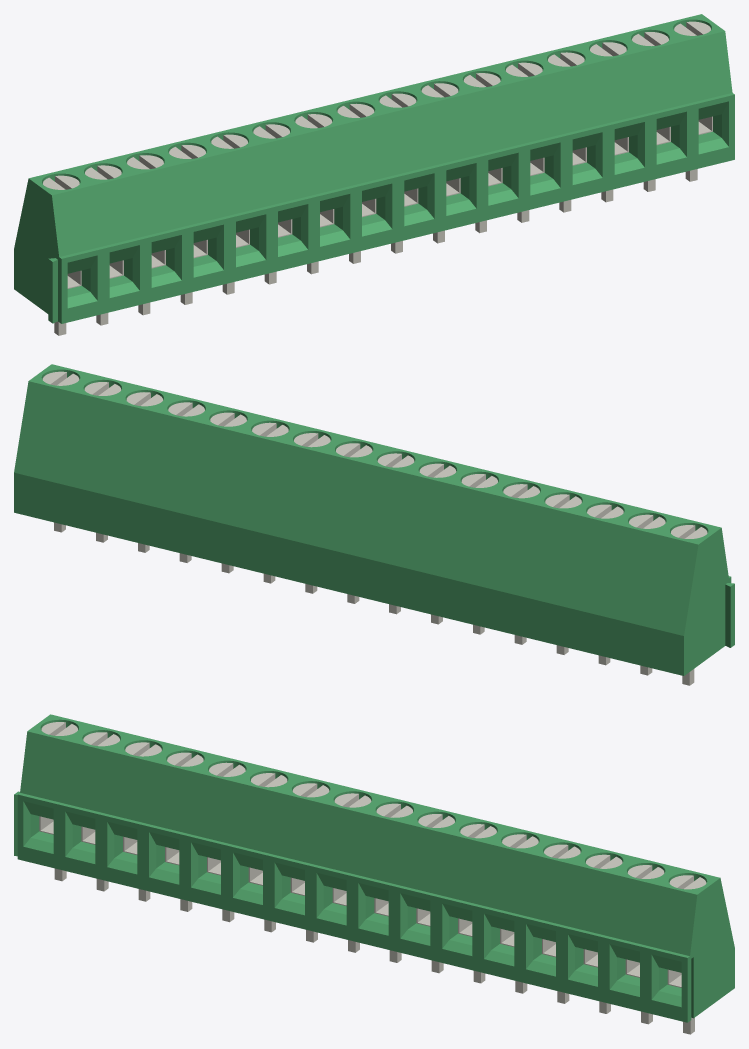
File: kc-terminalblock_phoenix_mkds-1_5-16_1x16_p5.00mm_horizontal.glb
3 views of the same model, one above another, from view 1: azimuth 30°, elevation 25°; view 2: azimuth 150°, elevation 25°; view 3: azimuth 330°, elevation 25° (orthographic).
Parts seen in each view (by area): view 1: 0.08333333333333333_0.4166666666666667_0.16666666666666666_0, 0.6666666666666666_0.6666666666666666_0.5833333333333334_0.8; view 2: 0.08333333333333333_0.4166666666666667_0.16666666666666666_0, 0.6666666666666666_0.6666666666666666_0.5833333333333334_0.8; view 3: 0.08333333333333333_0.4166666666666667_0.16666666666666666_0, 0.6666666666666666_0.6666666666666666_0.5833333333333334_0.8.
Boxes of the visible parts, x1,y1,x2,y2 form: 0.08333333333333333_0.4166666666666667_0.16666666666666666_0: [14, 14, 734, 323]; 0.6666666666666666_0.6666666666666666_0.5833333333333334_0.8: [43, 21, 712, 335]; 0.08333333333333333_0.4166666666666667_0.16666666666666666_0: [14, 364, 734, 675]; 0.6666666666666666_0.6666666666666666_0.5833333333333334_0.8: [42, 371, 707, 685]; 0.08333333333333333_0.4166666666666667_0.16666666666666666_0: [14, 714, 734, 1022]; 0.6666666666666666_0.6666666666666666_0.5833333333333334_0.8: [39, 722, 706, 1034].
Size of the model in its own units: 8.07 by 1.73 by 0.9797.
